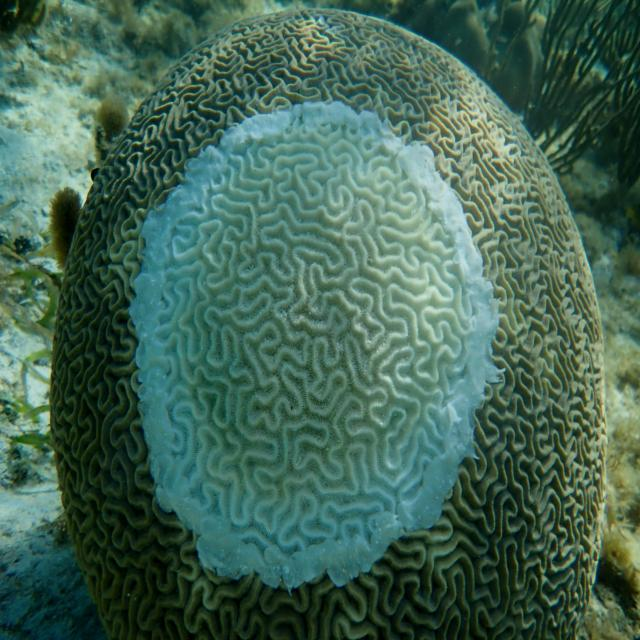Coral: (49, 7, 608, 640)
